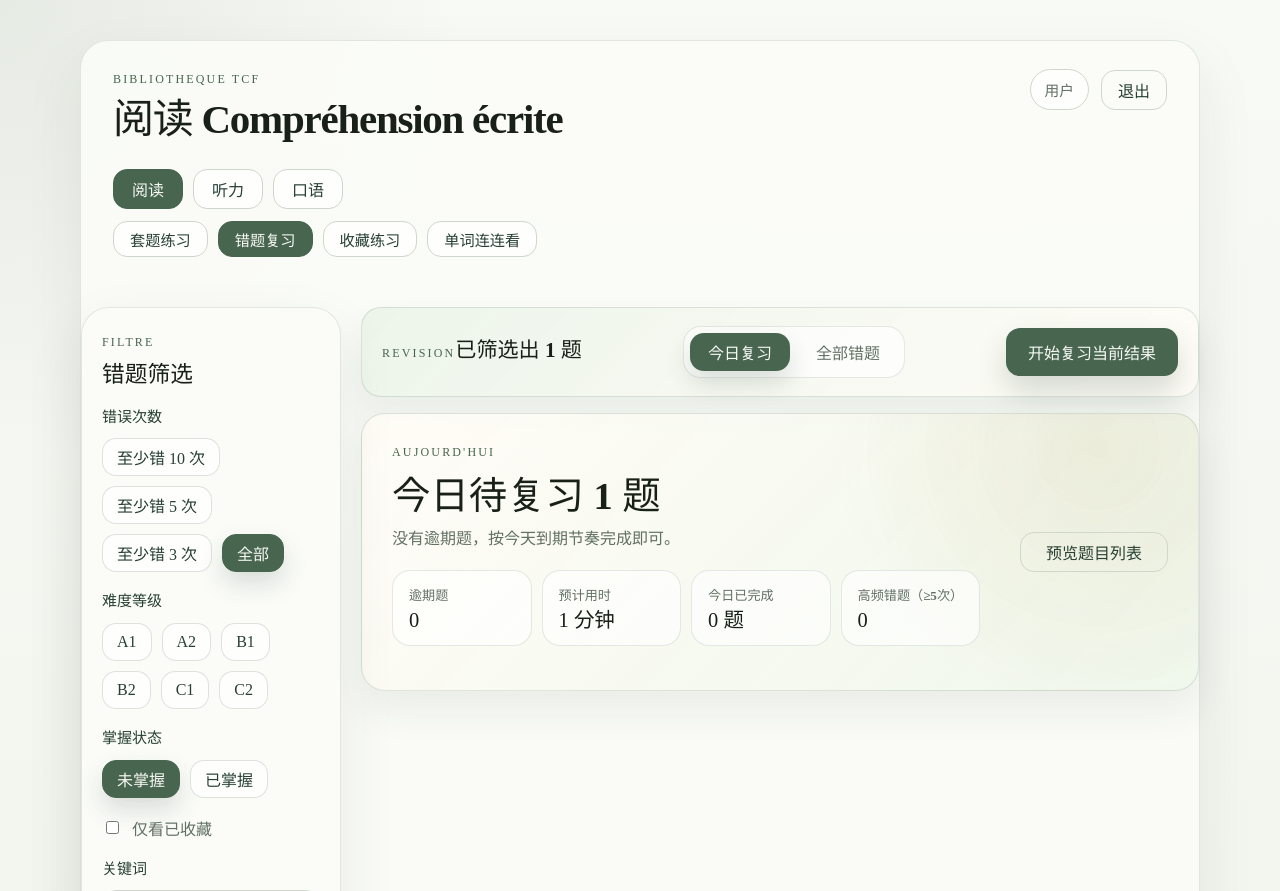
Scenario: WrongQuestionPage › renders wrong questions and left-side filters
Expected: the heading "今日待复习 1 题" is shown, [392, 475, 661, 517]
Click the button "预览题目列表" at [1094, 552], box [1020, 532, 1168, 572]
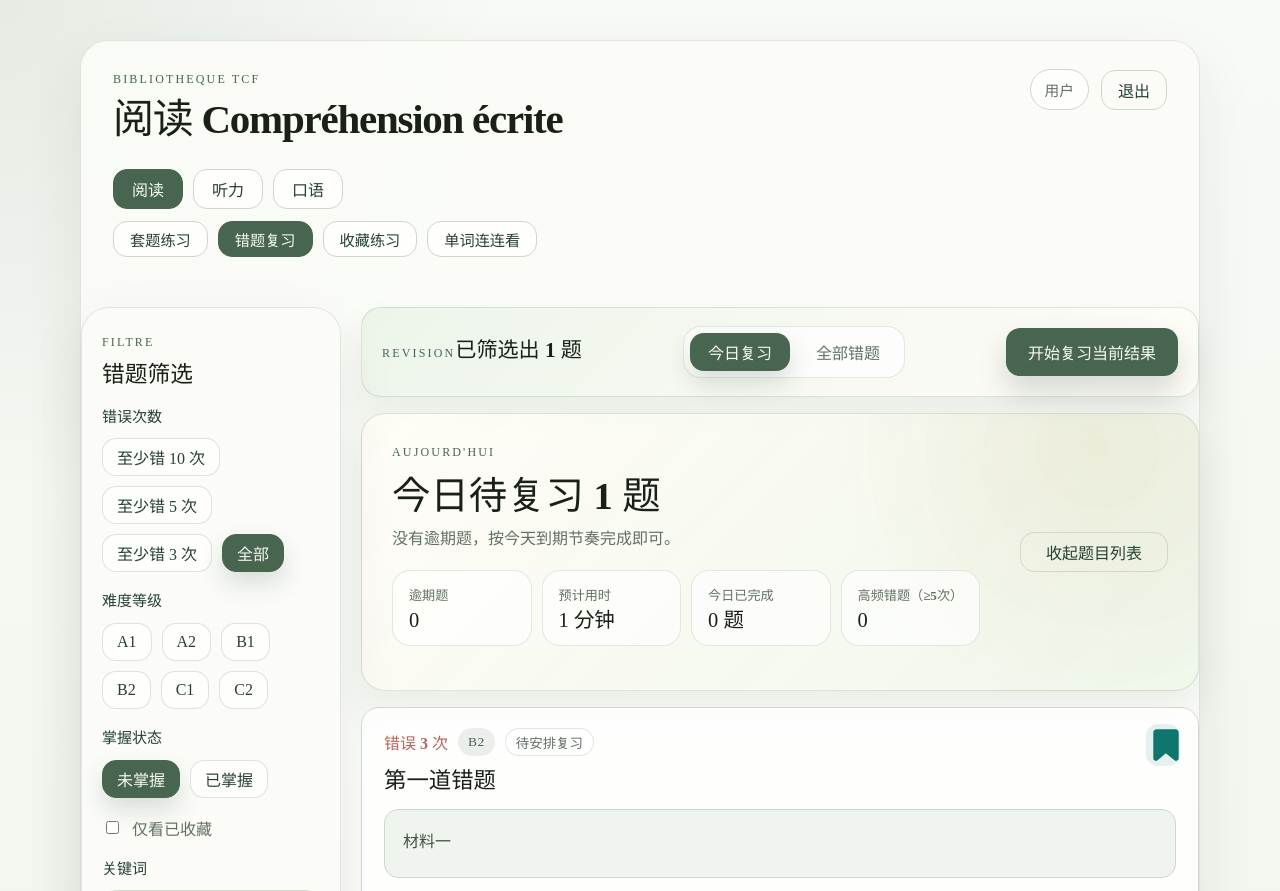
Expected: the number of buttons "B2" is 2, [102, 671, 151, 709]; [458, 728, 495, 756]
Expected: the heading "第一道错题" is shown, [384, 768, 496, 793]
Expected: the text "错误 3 次" is shown, [384, 730, 448, 754]
